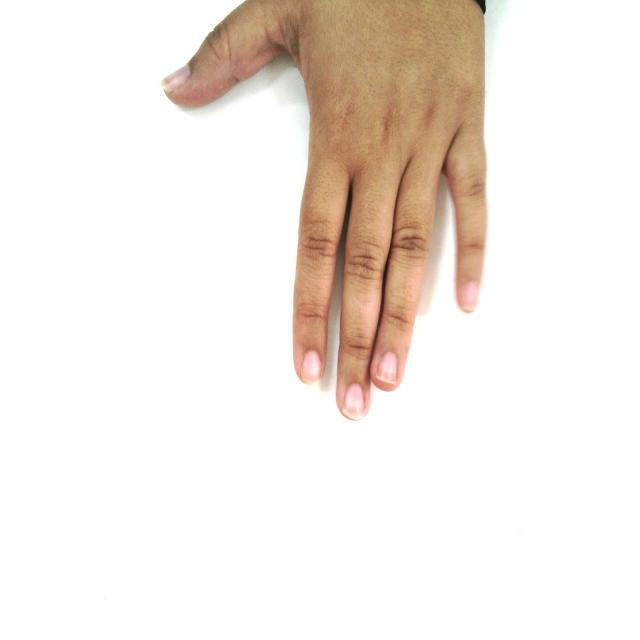Fingernail: (301, 350, 322, 385), (162, 66, 189, 92), (344, 384, 364, 418), (379, 353, 398, 382), (461, 282, 477, 309)
